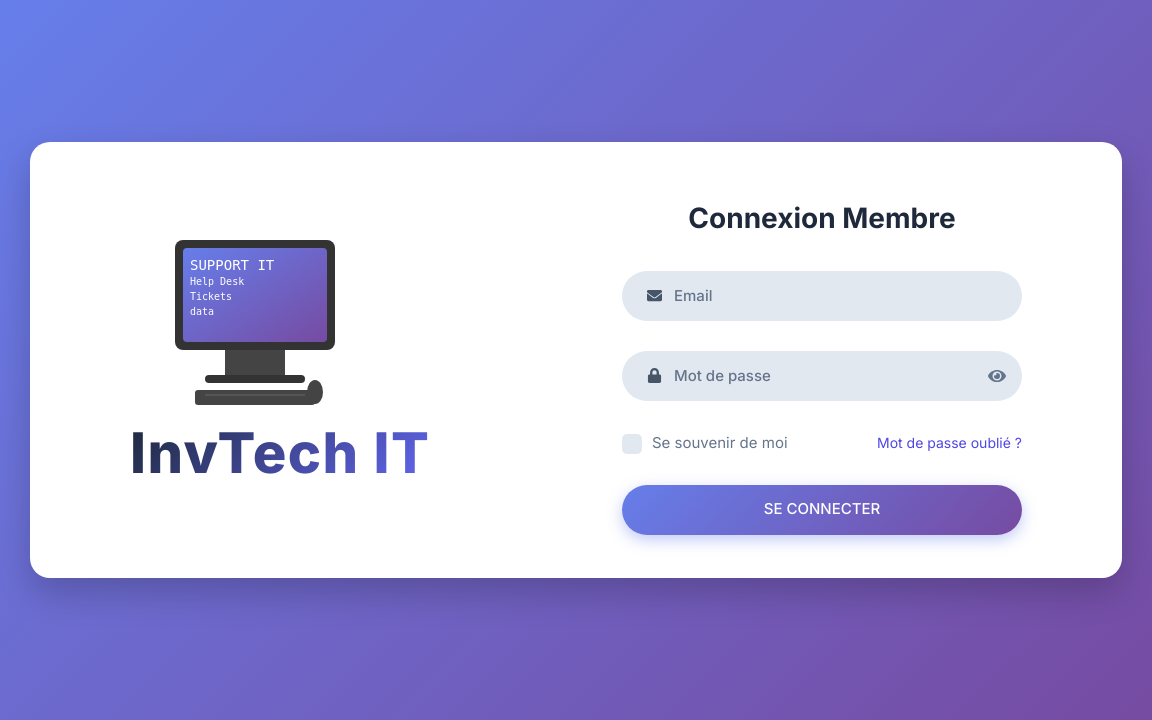
Test: Login - validation cote client › affiche une erreur si l'email est invalide
The width and height of the screenshot is (1152, 720).
Type "pas-un-email" into the field with placeholder "Email".
click(822, 296); type("pas-un-email")  # box [622,271,1022,321]
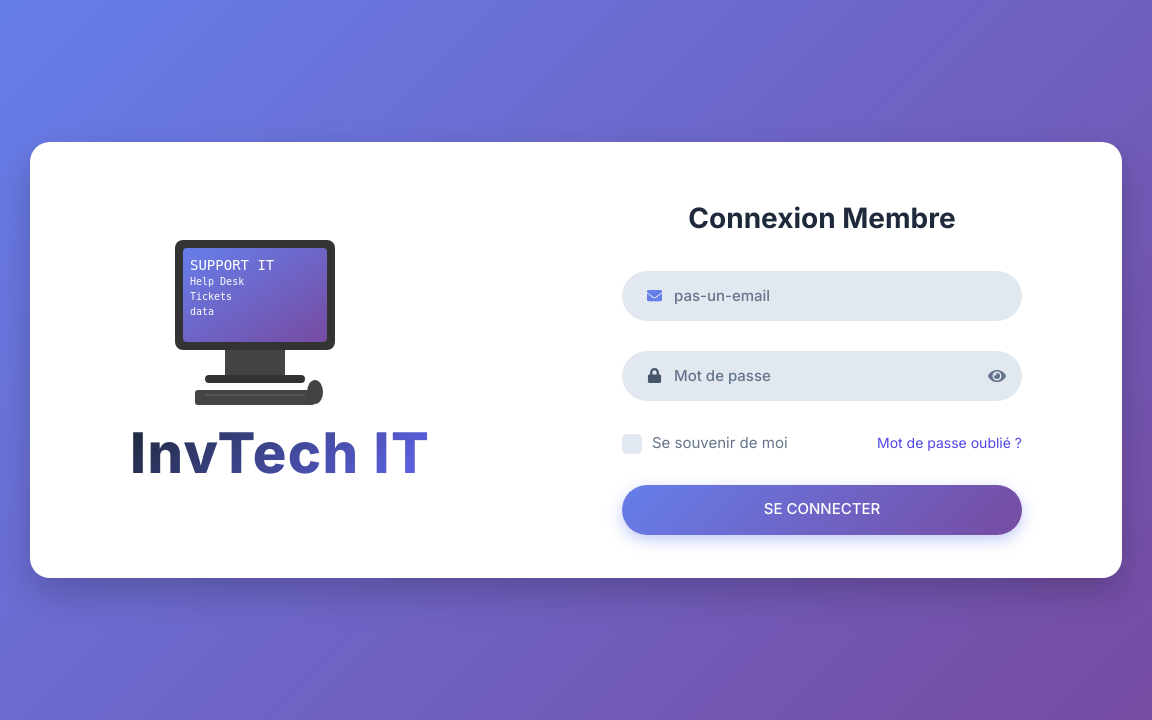
Type "motdepasse123" into the password field with placeholder "Mot de passe".
click(822, 376); type("motdepasse123")  # box [622,351,1022,401]
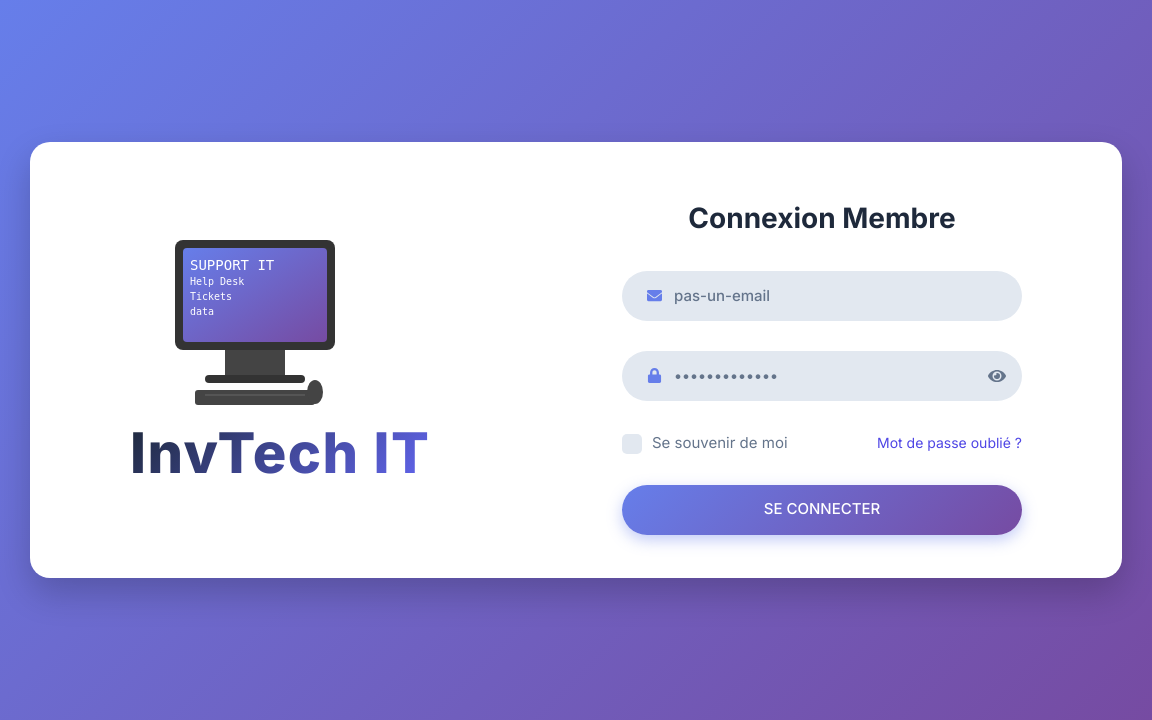
Click the button "Se connecter".
click(822, 510)  # box [622,485,1022,535]
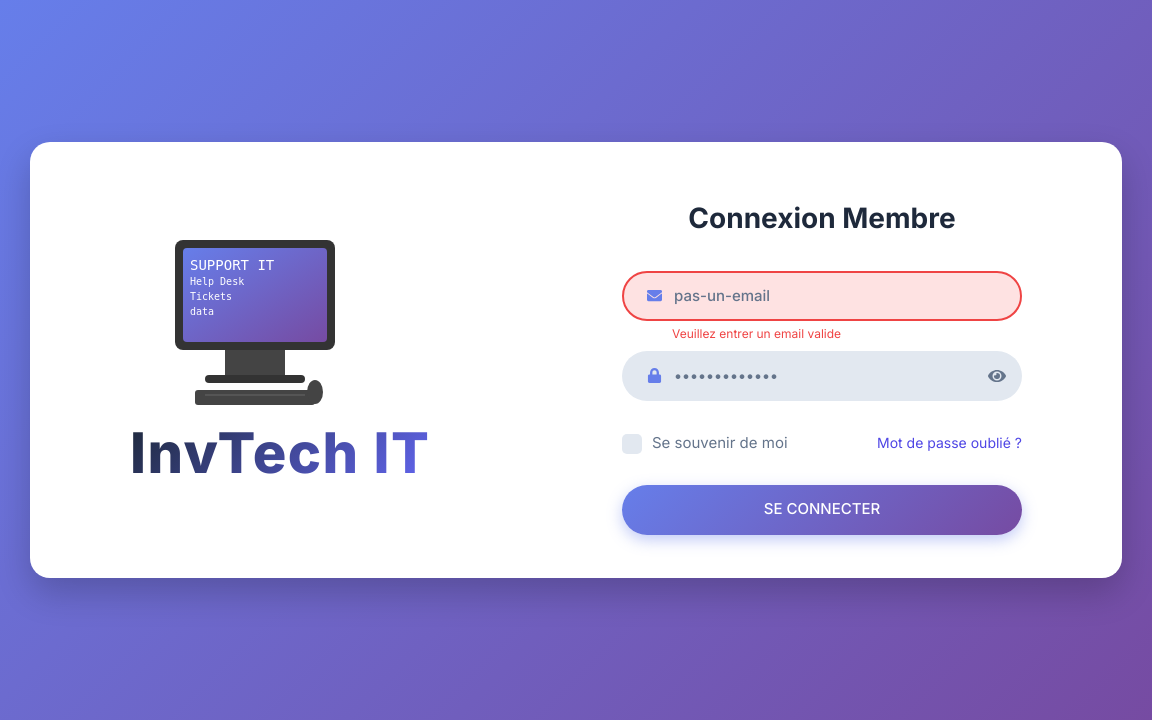
Check: the text "Veuillez entrer un email valide" is shown, box [672,326,841,341]
